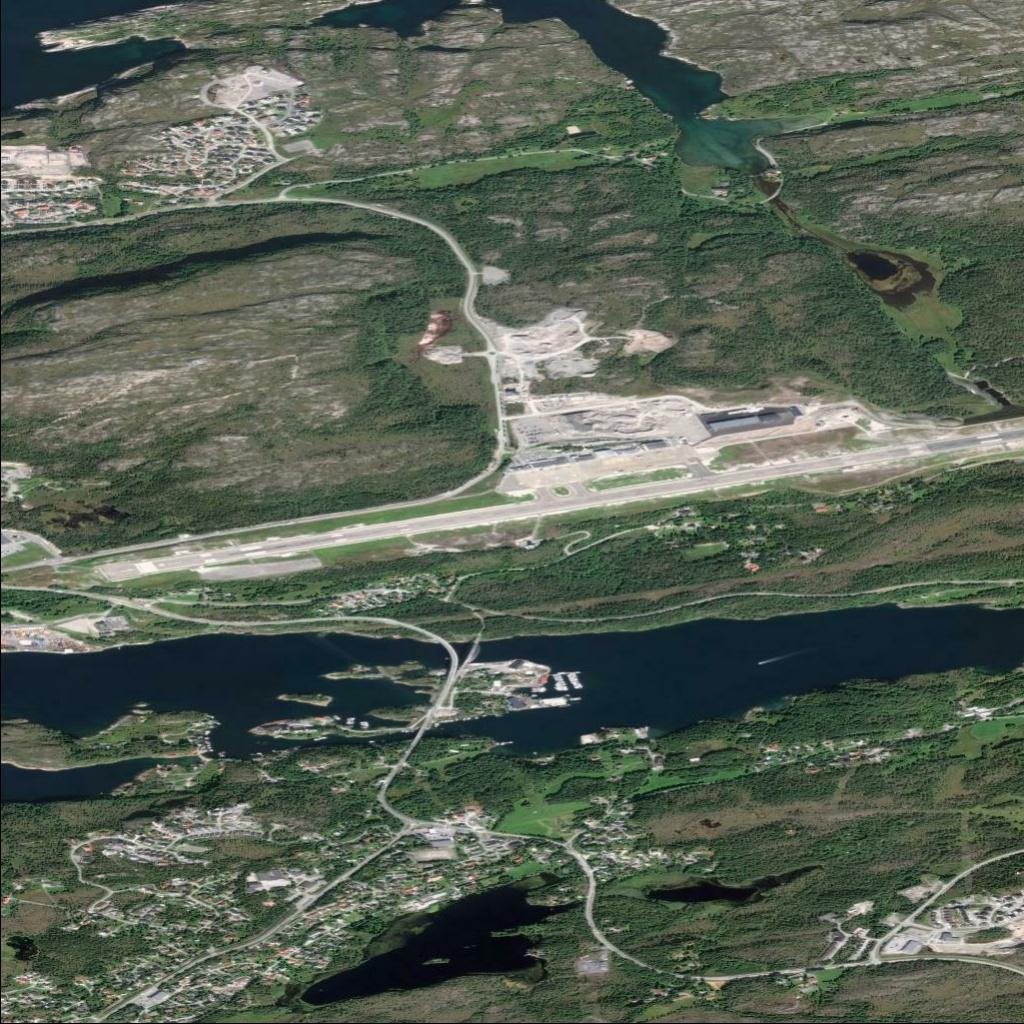harbor: (552, 677, 568, 692), (568, 673, 583, 689), (550, 671, 581, 676)
